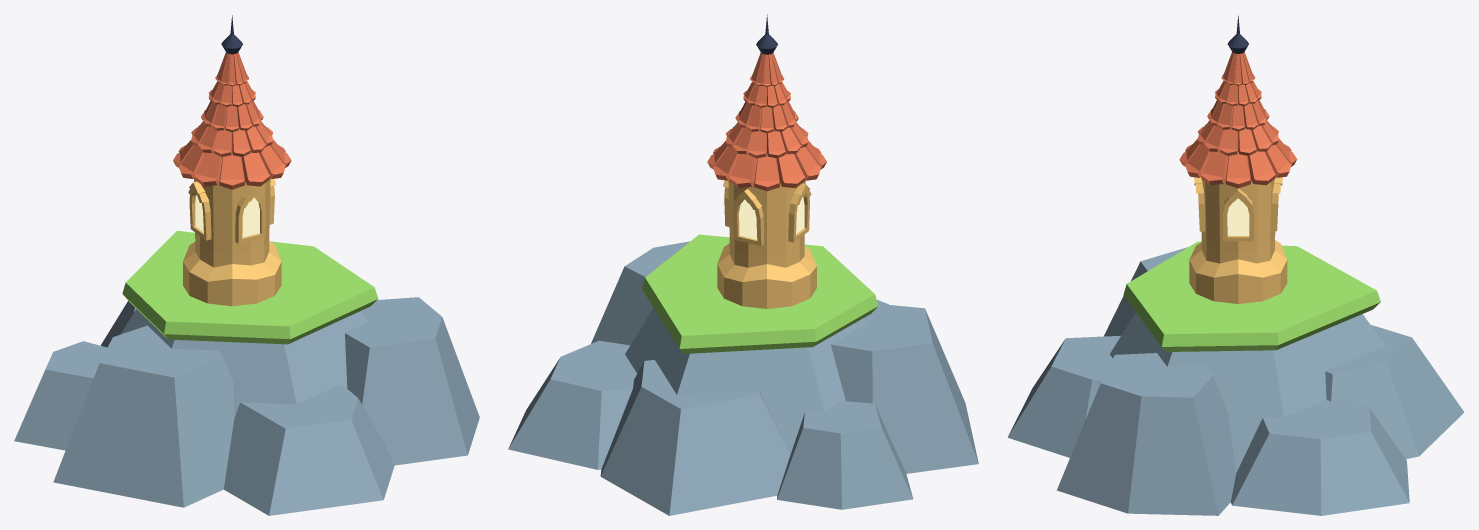
Rendered from model-whit-materials.glb.
The picture shows the model from 3 angles, left to right: view 1: azimuth 30°, elevation 25°; view 2: azimuth 150°, elevation 25°; view 3: azimuth 270°, elevation 25°; orthographic projection.
Parts seen in each view (by area): view 1: model; view 2: model; view 3: model.
Part boxes in pixels (x1,y1,x2,y2): model: (14,15,479,515); model: (508,14,978,515); model: (1007,15,1464,515).
Bounding box in the file's own units: 12.19 × 12.2 × 12.43.
